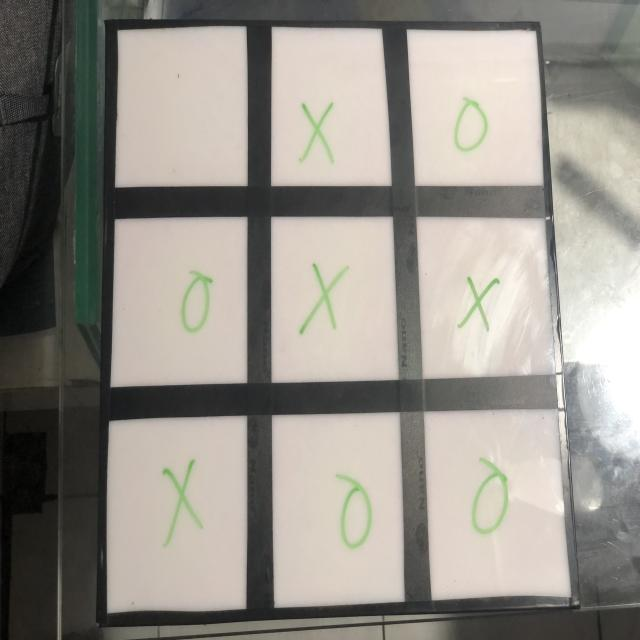null: (113, 26, 249, 190)
o: (330, 472, 379, 557), (467, 463, 518, 538), (448, 91, 499, 162), (173, 268, 220, 345)
table: (72, 2, 580, 626)
x: (158, 455, 210, 547), (294, 263, 350, 338), (455, 271, 508, 343), (294, 96, 343, 167)
